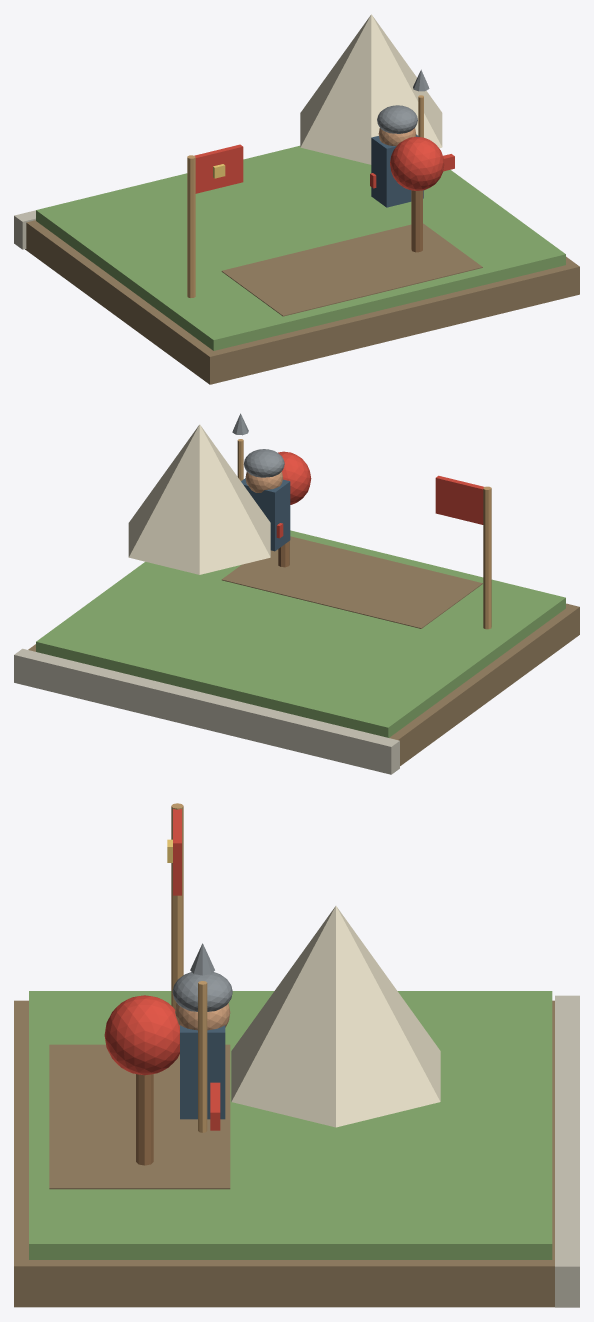
File: 04_O_DoanhTrai.glb
3 renders of one model, top to bottom at view 1: azimuth 30°, elevation 25°; view 2: azimuth 150°, elevation 25°; view 3: azimuth 270°, elevation 25°, orthographic. The views are drawn at different scales.
Visible parts, largest first — view 1: grass, soil, yard, tent, target, flag, body, pole, helmet, post, border; view 2: grass, border, tent, yard, soil, flag, body, pole, target, helmet, head; view 3: grass, soil, tent, yard, border, target, body, helmet, post, pole, spear, head (+1 smaller).
Boxes of the visible parts, bbox=[...] form: grass: bbox=[36, 145, 565, 350]; soil: bbox=[25, 220, 579, 384]; yard: bbox=[221, 223, 482, 316]; tent: bbox=[300, 14, 442, 164]; target: bbox=[390, 136, 444, 190]; flag: bbox=[194, 144, 243, 193]; body: bbox=[371, 134, 423, 207]; pole: bbox=[187, 155, 195, 298]; helmet: bbox=[377, 105, 417, 133]; post: bbox=[411, 190, 422, 252]; border: bbox=[14, 210, 35, 249]; grass: bbox=[36, 530, 565, 737]; border: bbox=[14, 648, 399, 774]; tent: bbox=[128, 424, 270, 574]; yard: bbox=[221, 536, 482, 628]; soil: bbox=[28, 603, 579, 765]; flag: bbox=[435, 475, 483, 524]; body: bbox=[241, 478, 290, 551]; pole: bbox=[483, 486, 491, 629]; target: bbox=[278, 451, 311, 504]; helmet: bbox=[244, 449, 284, 477]; head: bbox=[245, 471, 282, 492]; grass: bbox=[29, 991, 552, 1259]; soil: bbox=[14, 1000, 554, 1307]; tent: bbox=[231, 906, 440, 1127]; yard: bbox=[49, 1044, 230, 1189]; border: bbox=[555, 995, 579, 1307]; target: bbox=[104, 995, 179, 1075]; body: bbox=[180, 1025, 225, 1119]; helmet: bbox=[172, 972, 232, 1011]; post: bbox=[136, 1074, 153, 1165]; pole: bbox=[171, 803, 183, 1009]; spear: bbox=[198, 981, 207, 1132]; head: bbox=[175, 1003, 230, 1030].
Size of the model in its own units: 2.55 by 1.45 by 2.25.
